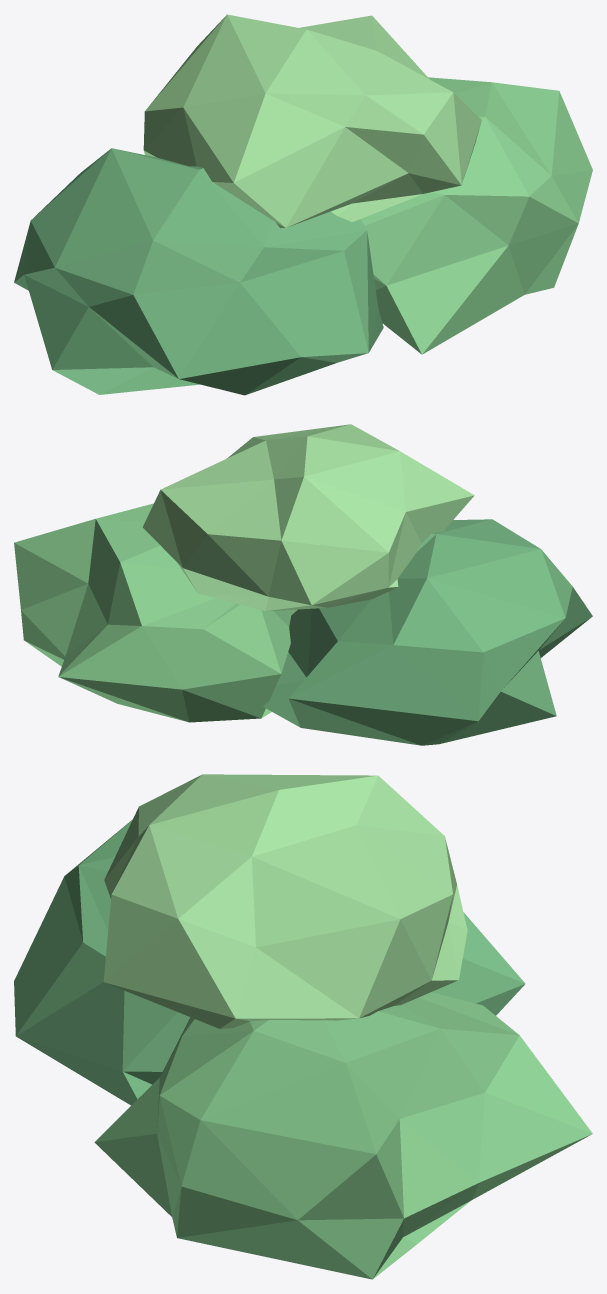
Rendered from shrub-a.glb.
The picture shows the model from 3 angles, top to bottom: view 1: azimuth 30°, elevation 25°; view 2: azimuth 150°, elevation 25°; view 3: azimuth 270°, elevation 25°; orthographic projection. The views are drawn at different scales.
Visible parts, largest first — view 1: ASTX_VEG_SHRUB_A_lobeL, ASTX_VEG_SHRUB_A_lobeT, ASTX_VEG_SHRUB_A_lobeR; view 2: ASTX_VEG_SHRUB_A_lobeL, ASTX_VEG_SHRUB_A_lobeT, ASTX_VEG_SHRUB_A_lobeR; view 3: ASTX_VEG_SHRUB_A_lobeR, ASTX_VEG_SHRUB_A_lobeT, ASTX_VEG_SHRUB_A_lobeL.
Boxes of the visible parts, box(x1,y1,x2,y2) form: ASTX_VEG_SHRUB_A_lobeL: box(14, 148, 383, 395); ASTX_VEG_SHRUB_A_lobeT: box(143, 14, 481, 227); ASTX_VEG_SHRUB_A_lobeR: box(361, 77, 592, 354); ASTX_VEG_SHRUB_A_lobeL: box(263, 519, 592, 745); ASTX_VEG_SHRUB_A_lobeT: box(142, 424, 474, 611); ASTX_VEG_SHRUB_A_lobeR: box(14, 503, 297, 722); ASTX_VEG_SHRUB_A_lobeR: box(94, 992, 592, 1279); ASTX_VEG_SHRUB_A_lobeT: box(103, 774, 467, 1028); ASTX_VEG_SHRUB_A_lobeL: box(14, 819, 525, 1105).
Size of the model in its own units: 2.08 by 1.02 by 1.55.
